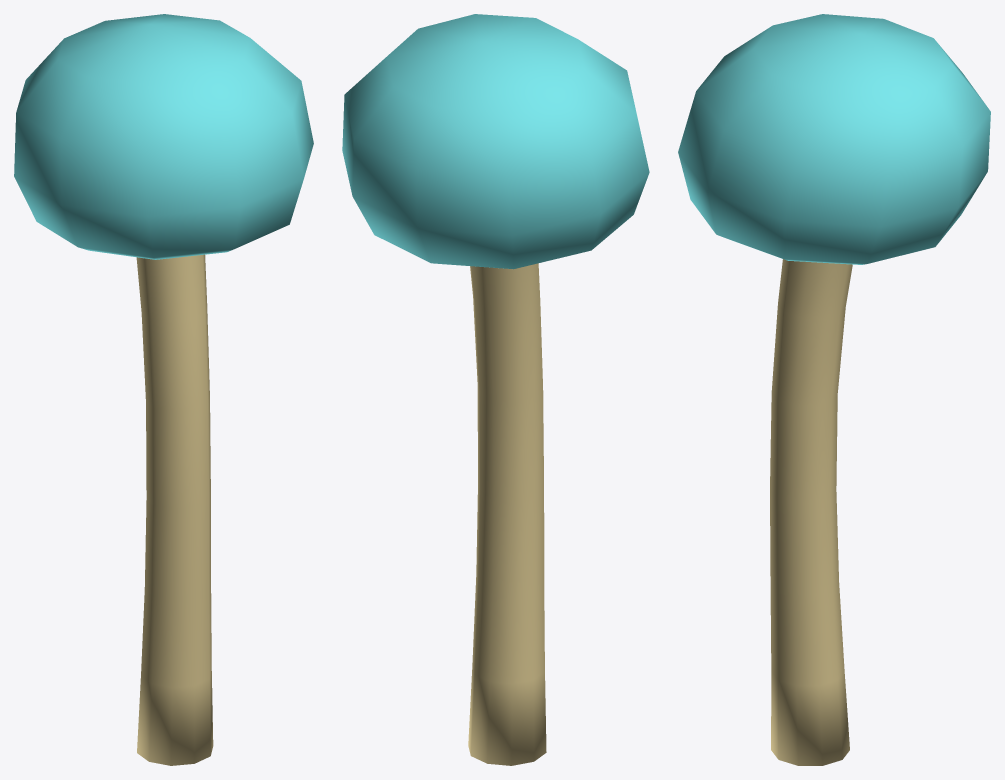
Rendered from Mushroom6_Bogdan.fbx.
3 views of the same model, side by side, from view 1: azimuth 30°, elevation 25°; view 2: azimuth 150°, elevation 25°; view 3: azimuth 270°, elevation 25° (orthographic). The views are drawn at different scales.
Parts seen in each view (by area): view 1: Mushroom6; view 2: Mushroom6; view 3: Mushroom6.
Boxes of the visible parts, bbox=[...] form: Mushroom6: bbox=[14, 14, 313, 765]; Mushroom6: bbox=[342, 14, 649, 765]; Mushroom6: bbox=[678, 14, 990, 765].
Size of the model in its own units: 72.86 by 195 by 77.26.
